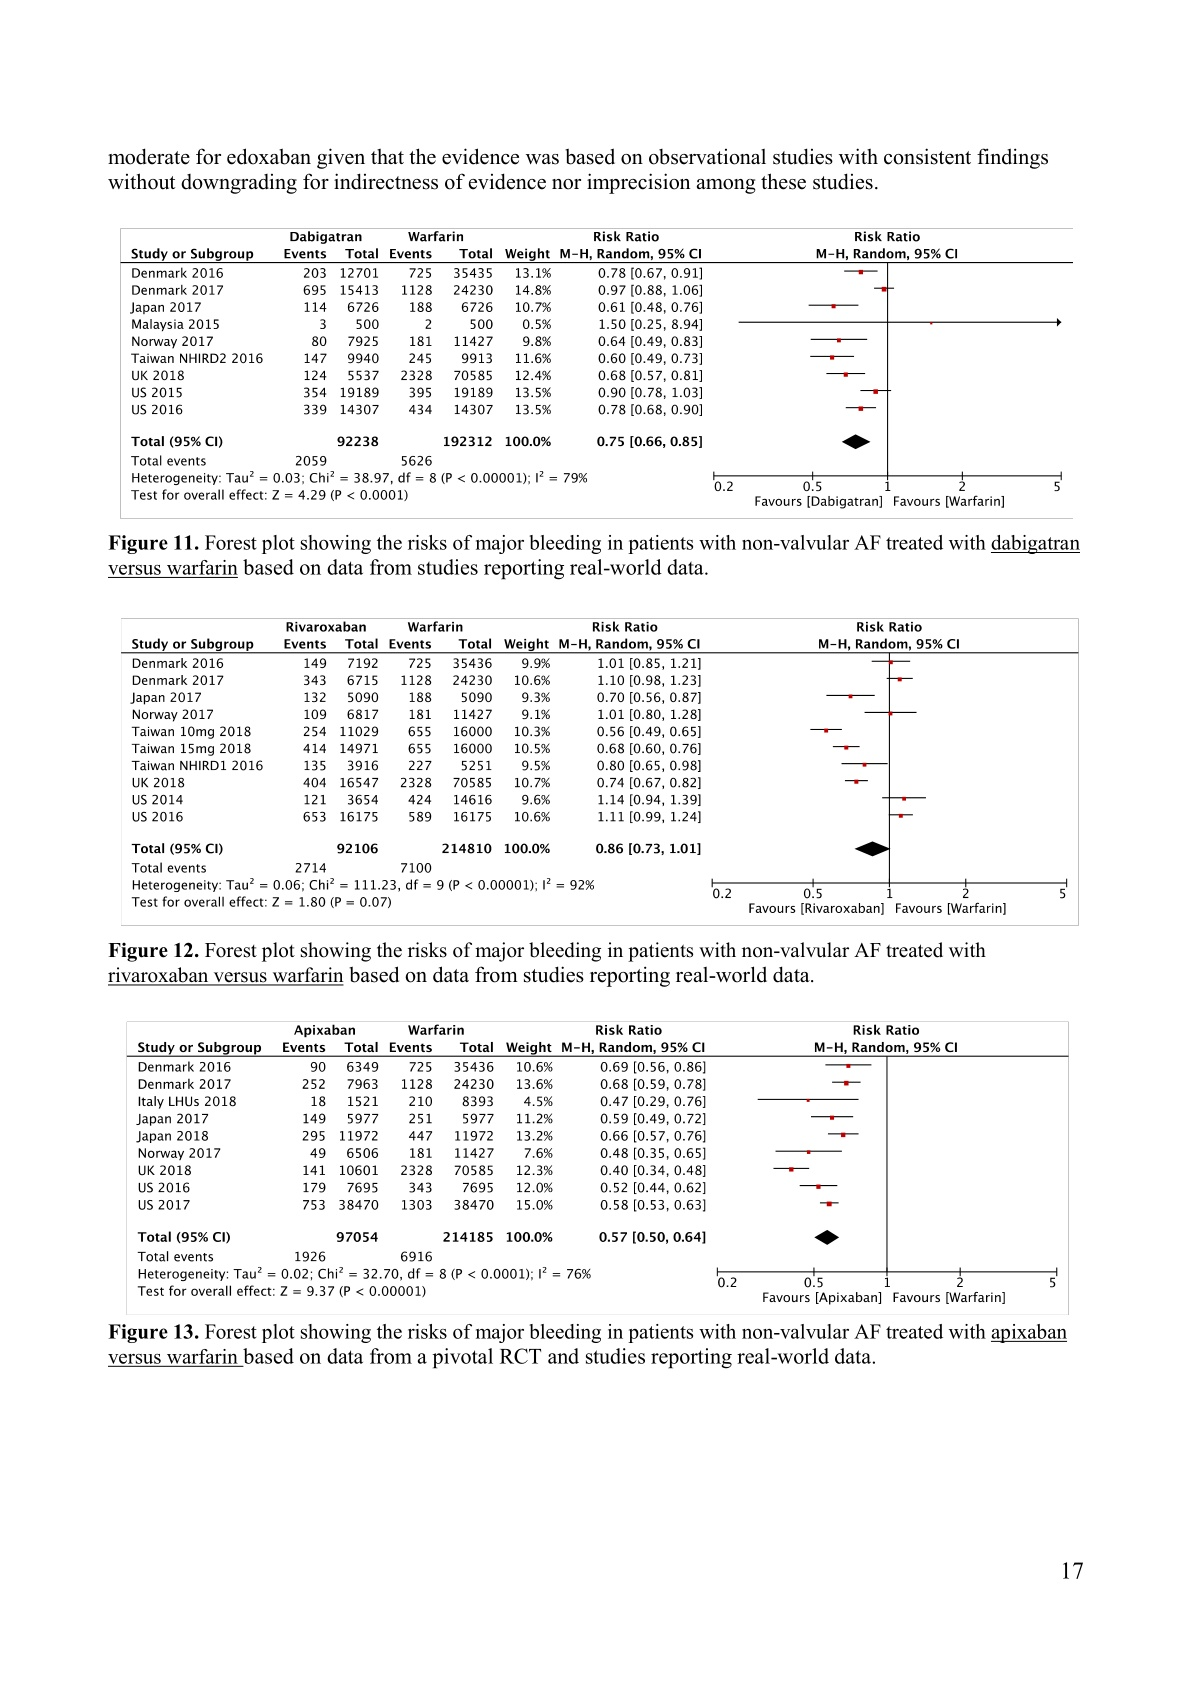partial_lined_merged_cells: (119, 618, 1079, 927), (124, 1017, 1072, 1318), (117, 227, 1074, 520)
